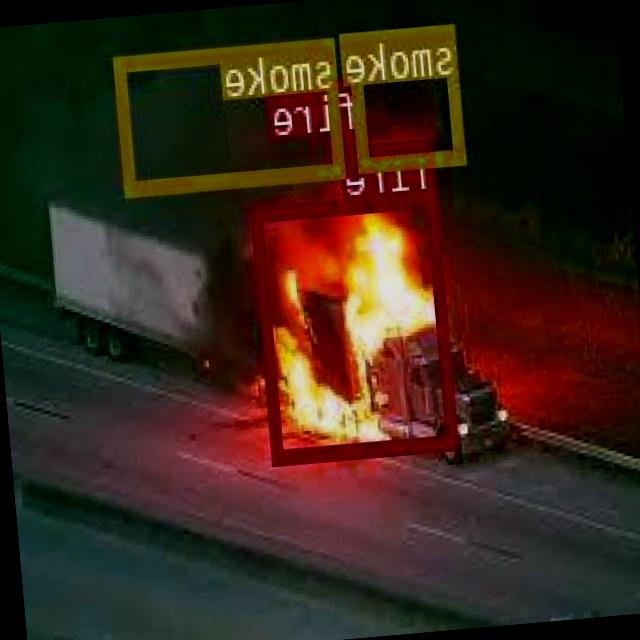fire: (252, 190, 460, 463), (329, 128, 369, 176)
smoke: (116, 36, 347, 195), (348, 21, 468, 169)
